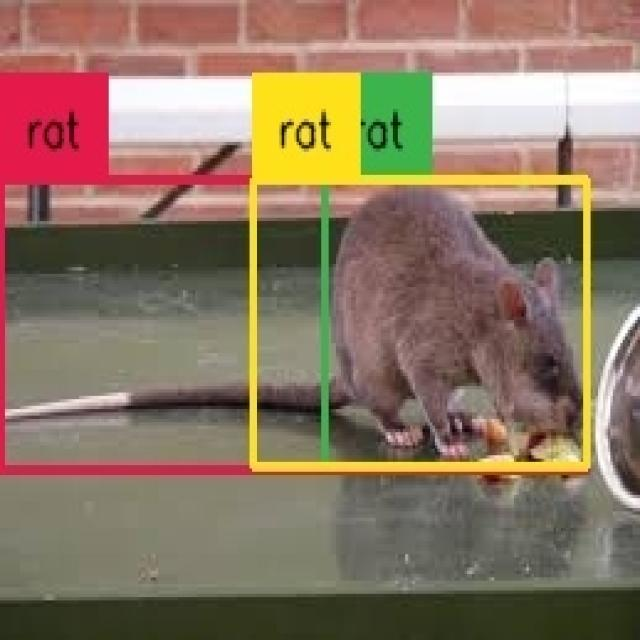rat: (0, 180, 588, 470), (253, 178, 587, 469), (325, 180, 587, 467)
